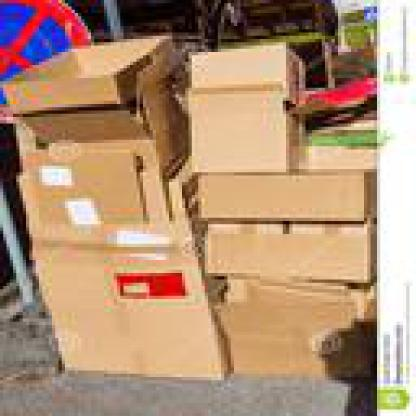CARDBOARD: (23, 211, 231, 377), (10, 52, 185, 166), (211, 296, 370, 380), (0, 29, 179, 101), (198, 218, 370, 282), (42, 136, 169, 214), (189, 169, 374, 221), (186, 84, 302, 166), (13, 149, 143, 221), (182, 39, 302, 107), (221, 276, 367, 318), (299, 74, 374, 113), (302, 111, 374, 143), (299, 140, 371, 169), (166, 162, 192, 212)
